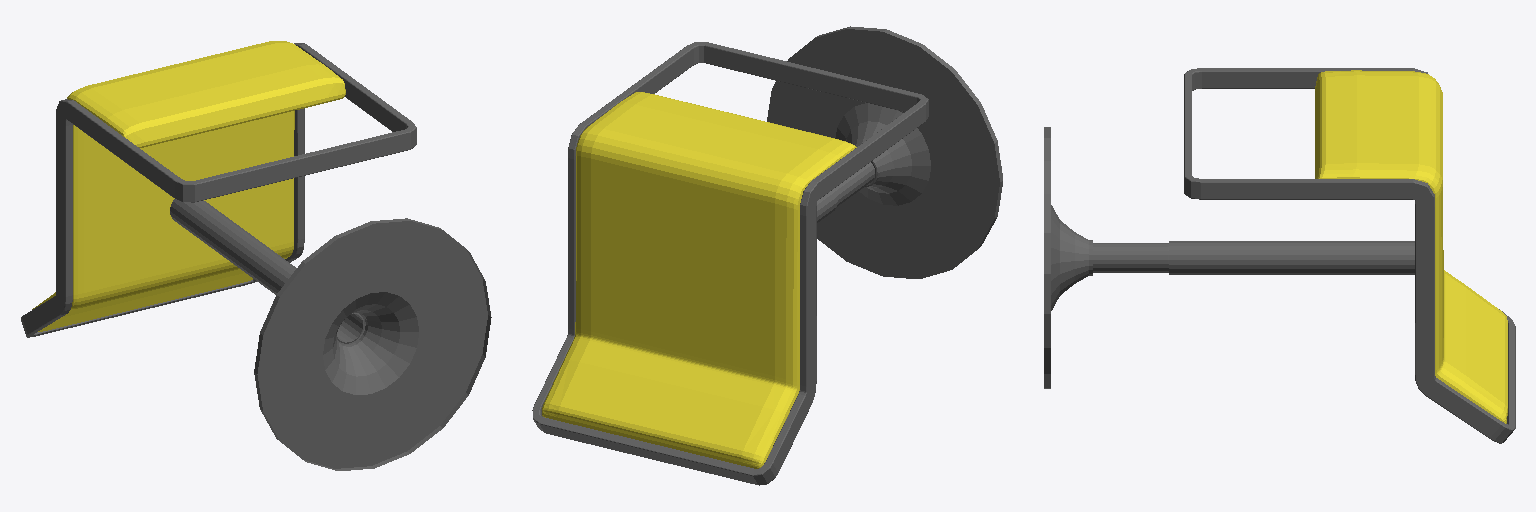
The robot description file, URDF, robot "429":
<robot name="429">


	<link name="0:virtual">
		<visual>
			<origin xyz="0.0 0.0 0.0" rpy="0 0 0"/>
			<geometry>
				<cylinder length="0" radius="0"/>
			</geometry>
		</visual>
	</link>


	<link name="1:static">
		<visual>
			<origin xyz="-0.0 -0.0 -0.0" rpy="0 0 0"/>
			<geometry>
				<mesh filename="../raw_data/429/part_meshes/1.dae" />
			</geometry>
		</visual>
	</link>


	<link name="2:stand 1">
		<visual>
			<origin xyz="1.7978956431269344e-11 -0.2750075049698353 -0.002747000192239779" rpy="0 0 0"/>
			<geometry>
				<mesh filename="../raw_data/429/part_meshes/2.dae" />
			</geometry>
		</visual>
	</link>


	<link name="3:seat 1">
		<visual>
			<origin xyz="-0.0 -0.39532849937677383 -0.006563000380992889" rpy="0 0 0"/>
			<geometry>
				<mesh filename="../raw_data/429/part_meshes/3.dae" />
			</geometry>
		</visual>
	</link>


	<joint name="0:virtual::1:static" type="fixed">
		<parent link="0:virtual"/>
		<child link="1:static"/>
		<origin xyz="0.0 0.0 0.0" rpy="0 0 0"/>
	</joint>


	<joint name="0:virtual::2:stand 1_rotation" type="revolute">
		<parent link="0:virtual"/>
		<child link="2:stand 1"/>
		<origin xyz="-1.7978956431269344e-11 0.2750075049698353 0.002747000192239779" rpy="0 0 0"/>
		<limit lower="-3.141592653589793" upper="3.141592653589793" effort="10" velocity="3"/>
		<axis xyz="0.0 1.0 0.0"/>
	</joint>


	<joint name="2:stand 1::3:seat 1_translation" type="prismatic">
		<parent link="2:stand 1"/>
		<child link="3:seat 1"/>
		<origin xyz="1.7978956431269344e-11 0.12032099440693855 0.0038160001887531103" rpy="0 0 0"/>
		<limit lower="-0.0276765238344669" upper="0.0643234761655331" effort="10" velocity="3"/>
		<axis xyz="0.0 1.0 0.0"/>
	</joint>


</robot>

--- Facts derived from the render (not from the file) ---
3 views of the same robot in one strip: view 1: azimuth 30°, elevation 25°; view 2: azimuth 150°, elevation 25°; view 3: azimuth 270°, elevation 25° (orthographic).
Robot: 429 — 4 links, 3 joints (1 revolute, 1 prismatic, 1 fixed); root link 0:virtual; default pose: all joints at 0.
Visible links, largest first — view 1: 3:seat 1, 1:static, 2:stand 1; view 2: 3:seat 1, 1:static, 2:stand 1; view 3: 3:seat 1, 2:stand 1, 1:static.
Link boxes in pixels (left/top/right/bottom): 3:seat 1: left=21, top=41, right=416, bottom=337; 1:static: left=254, top=218, right=491, bottom=470; 2:stand 1: left=170, top=199, right=362, bottom=342; 3:seat 1: left=532, top=42, right=928, bottom=485; 1:static: left=767, top=26, right=1002, bottom=278; 2:stand 1: left=817, top=162, right=874, bottom=222; 3:seat 1: left=1184, top=68, right=1515, bottom=443; 2:stand 1: left=1093, top=241, right=1414, bottom=274; 1:static: left=1044, top=127, right=1092, bottom=388.
Bounding box of the posed robot: 0.3505 × 0.6097 × 0.3887 m (x, y, z).
Meshes: 3 distinct files referenced, 3 mesh visuals loaded (3 Collada DAE).